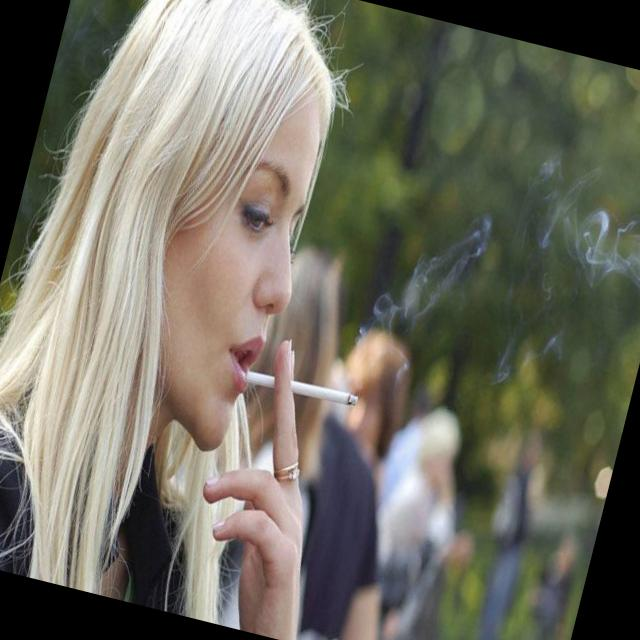cigarette: (227, 338, 381, 437)
